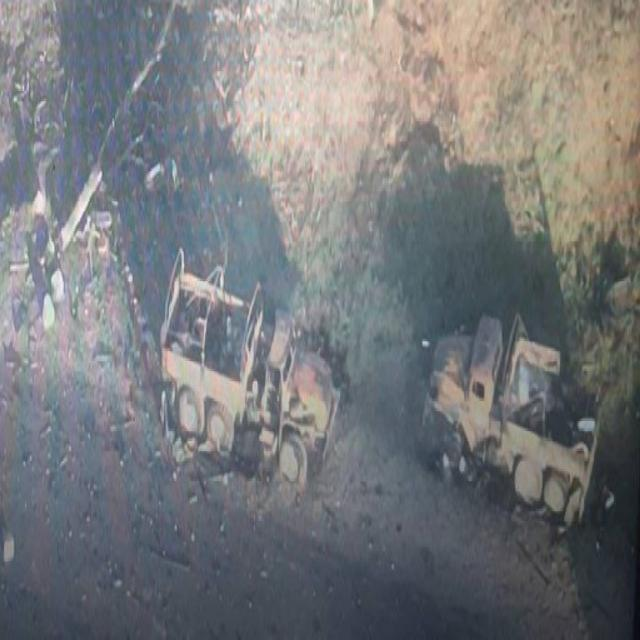TRUCK: (148, 238, 338, 493), (420, 304, 604, 529)
